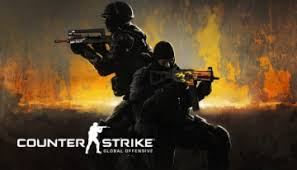gun: (145, 66, 219, 110), (54, 27, 111, 46)
